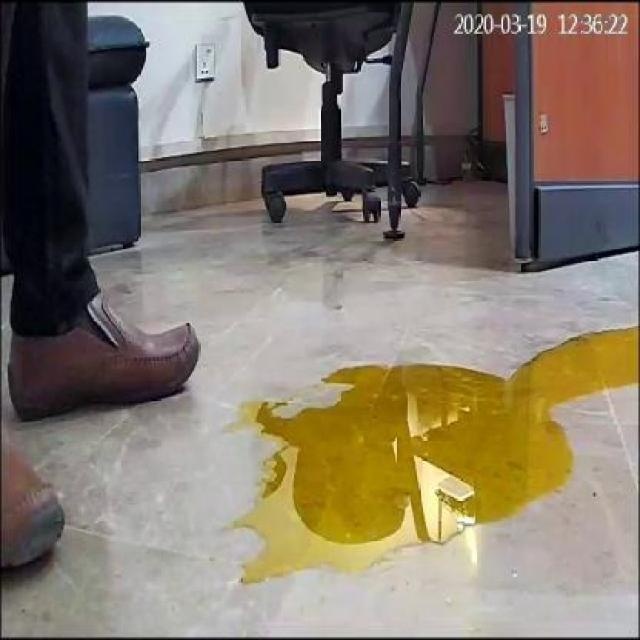spill: (230, 326, 636, 576)
